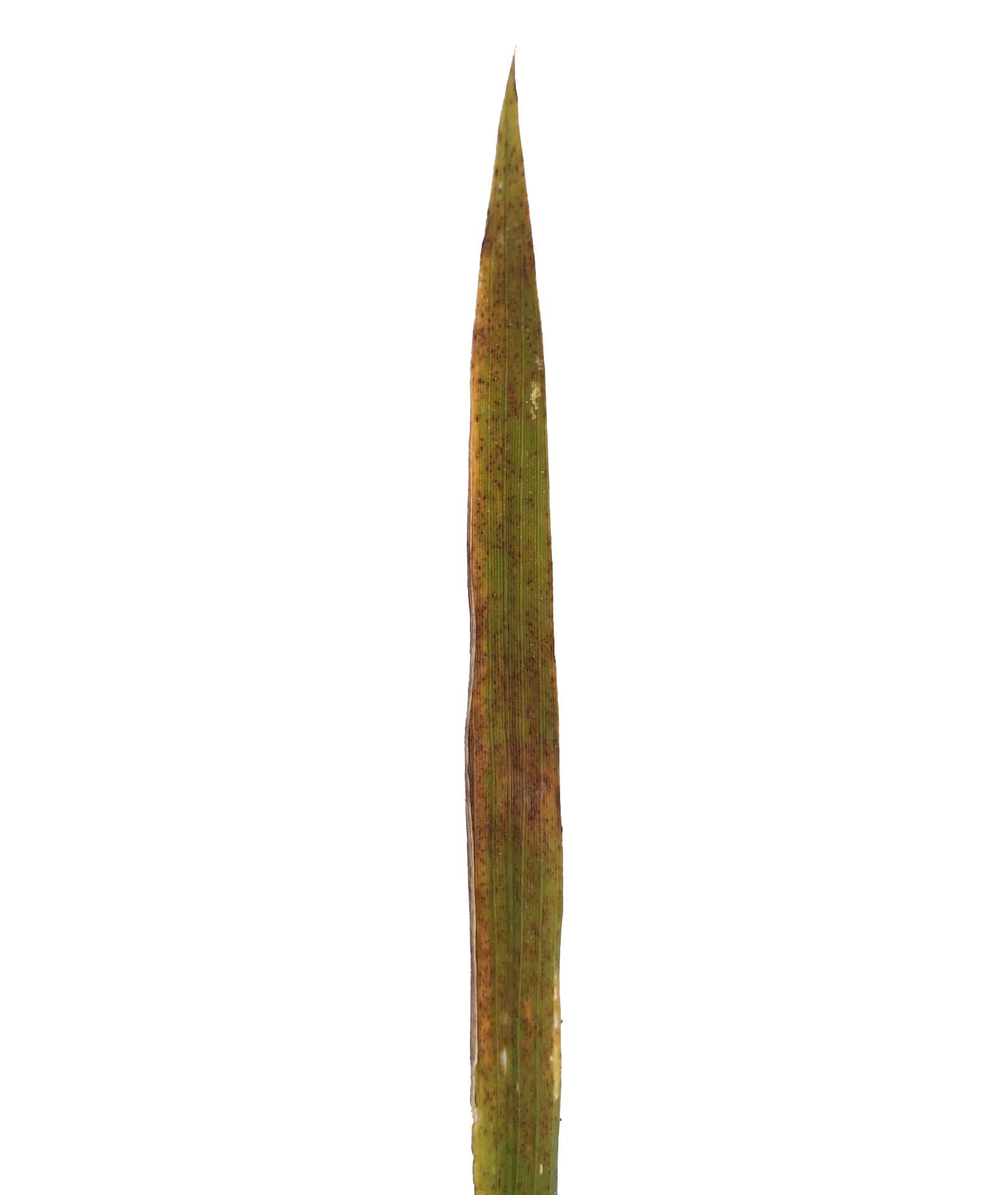Tungro: (464, 57, 565, 1195)
